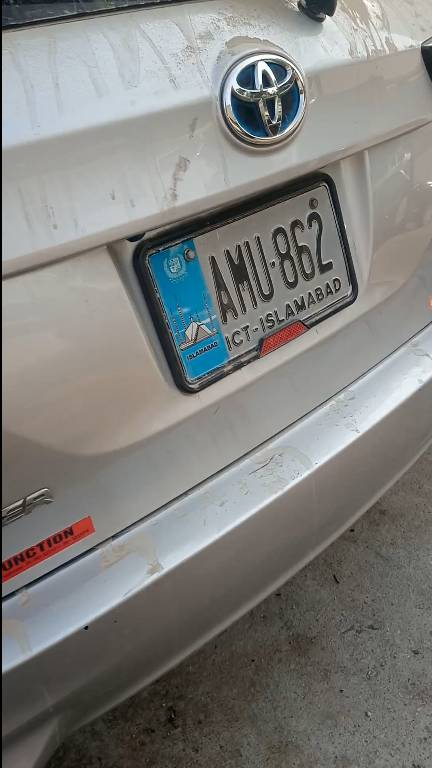number_plate: (132, 188, 397, 367)
